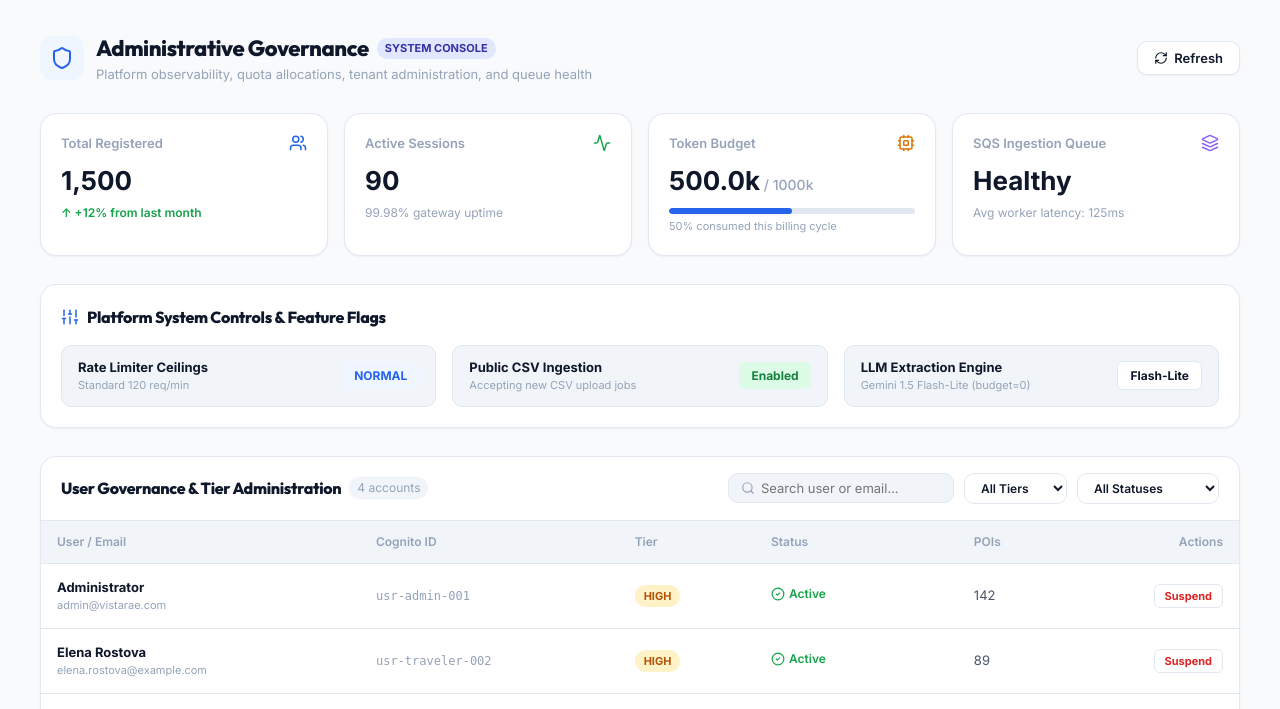
Scenario: AdminDashboardPage Component (REQ-UI-018) › toggles user status between active and suspended
Expected: the text "Elena Rostova" is shown, x1=57 y1=644 x2=146 y2=660
Expected: the text "Elena Rostova" shows "Active", x1=789 y1=651 x2=826 y2=666
Click the button "Suspend" in the row of "Elena Rostova" at (1188, 660), box x1=1154 y1=648 x2=1223 y2=672
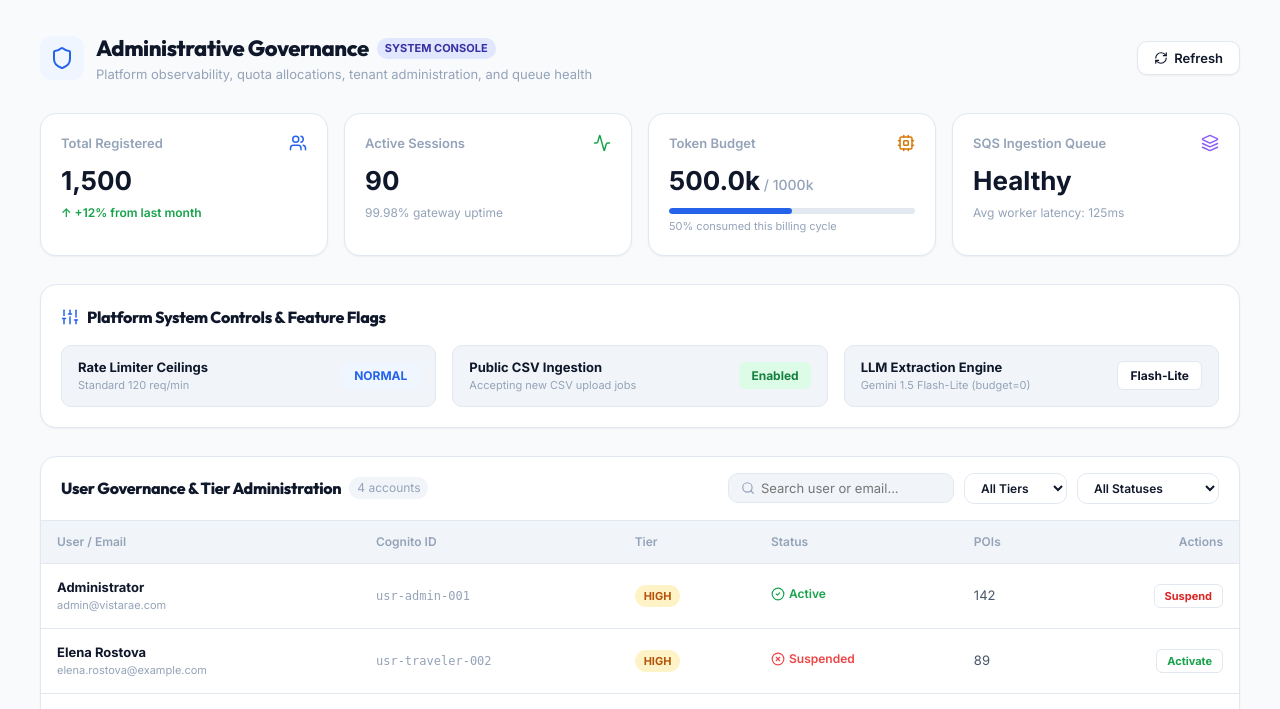
Now the text "Elena Rostova" shows "Suspended", box x1=789 y1=651 x2=855 y2=666
Now the button "Activate" is shown, box x1=1156 y1=648 x2=1223 y2=672
